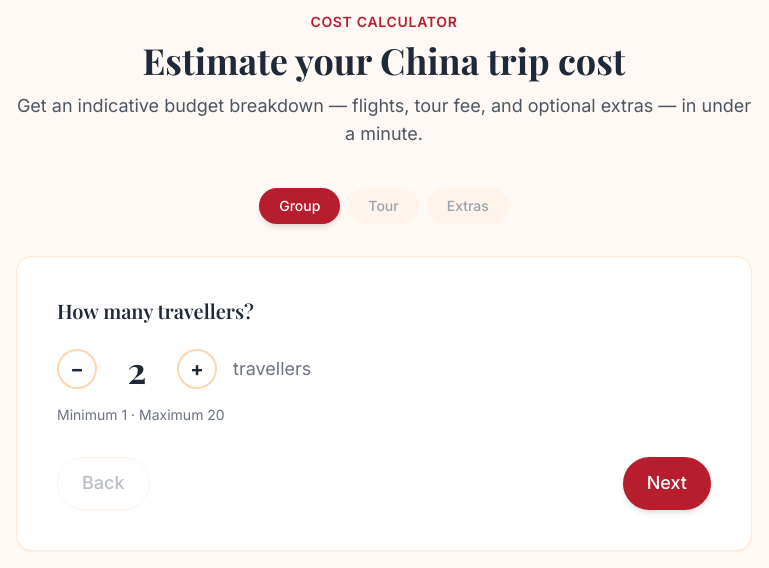
CostCalculator component › increases group size when + clicked
The image size is (769, 568).
Click the button named "Increase group size".
click(197, 369)  # box [177,349,217,389]
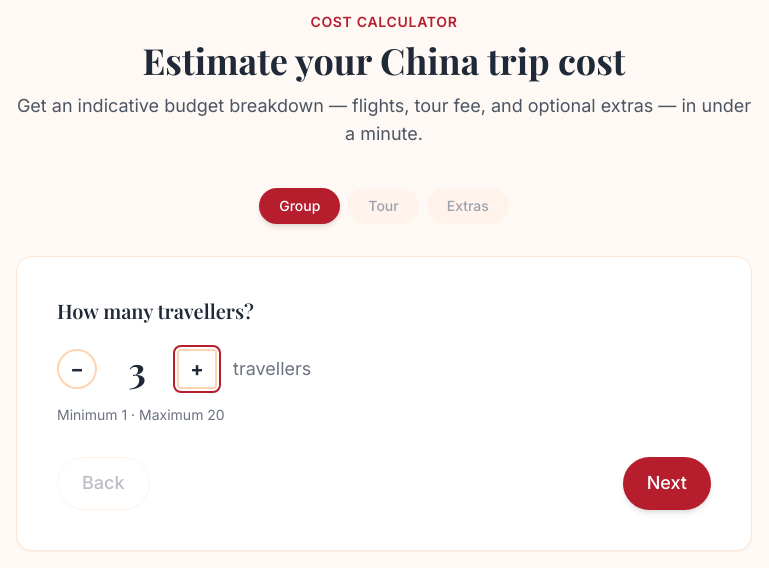
Result: the text "3" is shown at [128,345,146,393]
